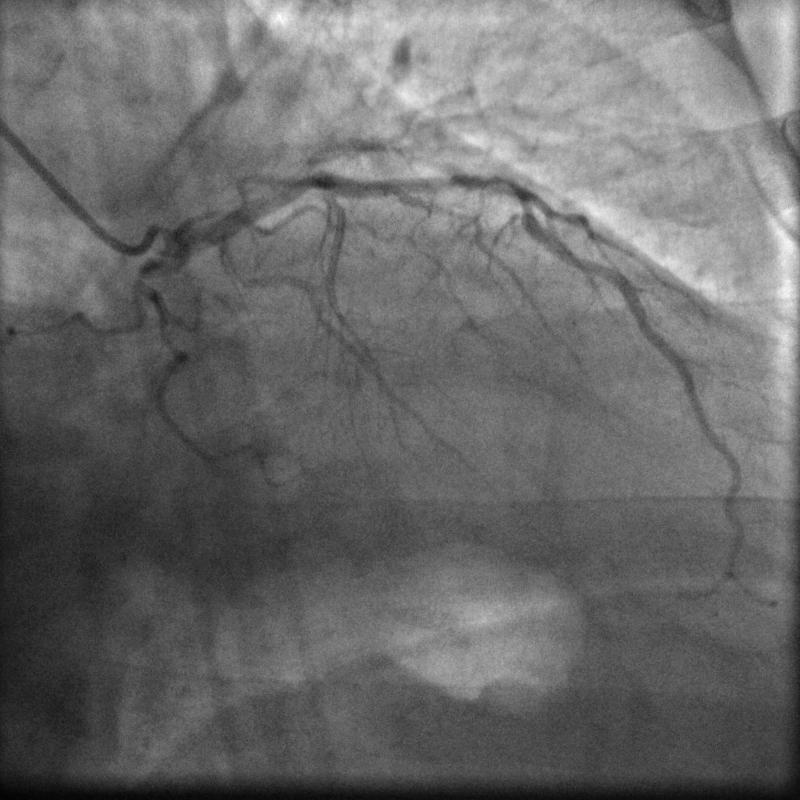Stenosis: (462, 164, 534, 215)
